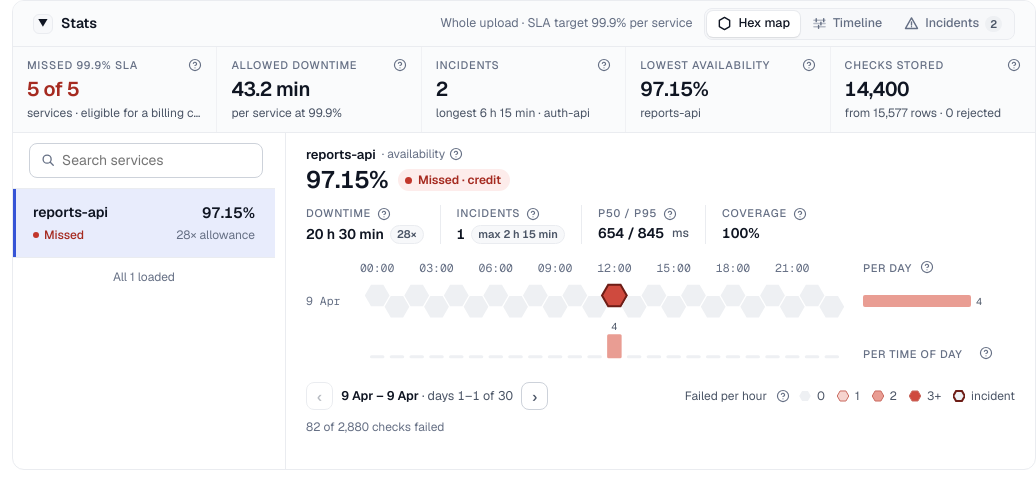
Test: Stats panel › collapses and expands; collapsed content is out of the tab order
What coordinates should you click on to do the following:
click the button "▼ Stats"
I would click on:
 (65, 24)
Its box is [33,13,97,34].
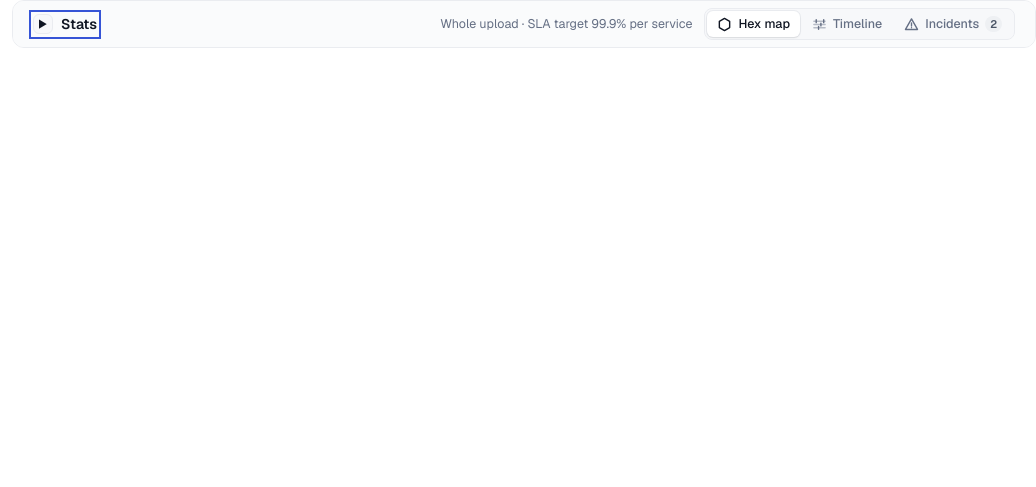
Check: the button "▼ Stats" is collapsed
What coordinates should you click on to do the following:
click the button "▼ Stats"
I would click on:
 (65, 24)
Its box is [33,14,97,34].
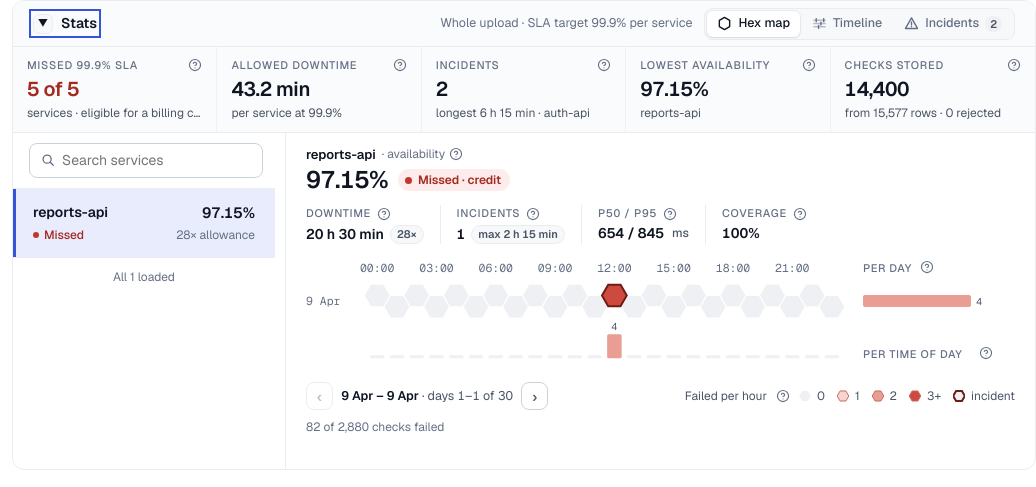
Check: the button "▼ Stats" is expanded, box [33,13,97,34]
